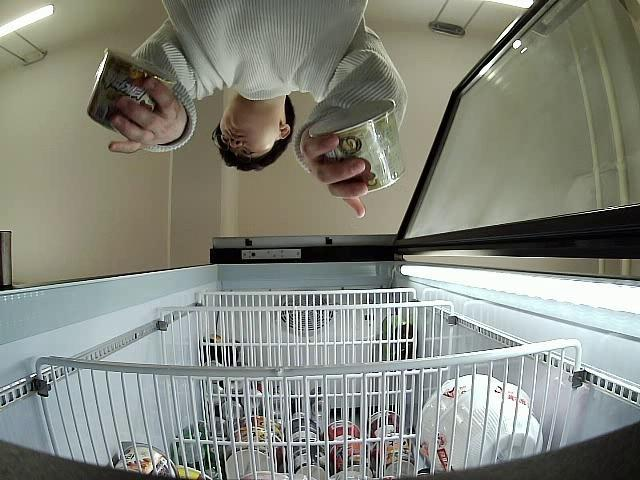04_chapagetti_S: (310, 101, 405, 190), (88, 50, 179, 138)
